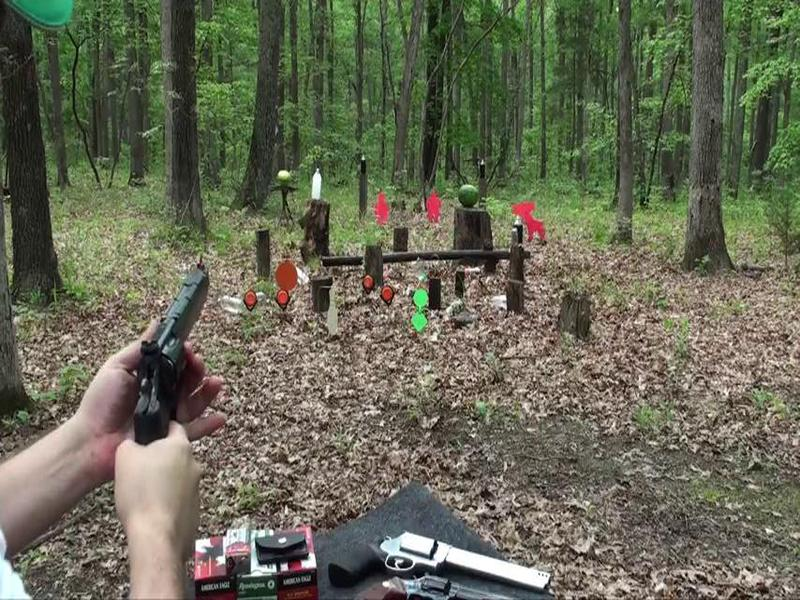Revolver: (118, 255, 232, 473)
